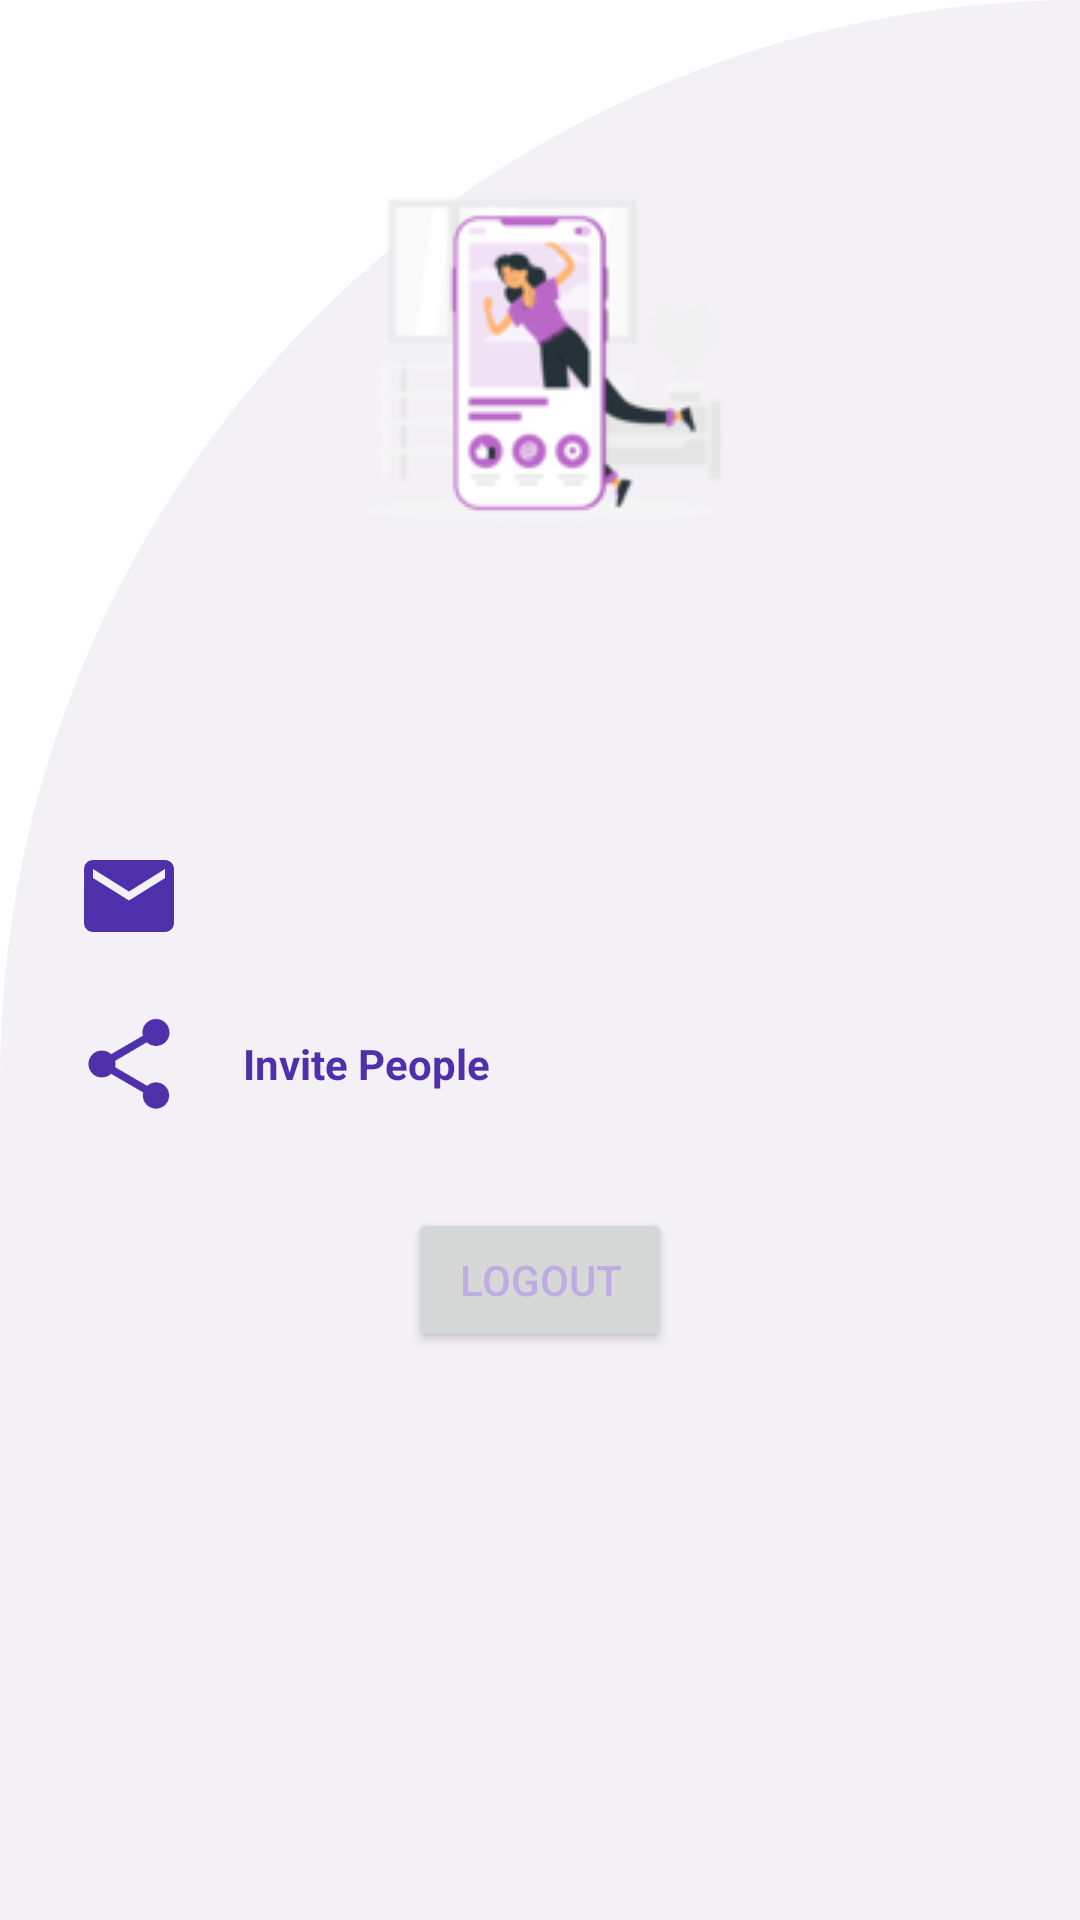

Icon click points for this 1080w x 1920h phone screenshot, format [x,y]:
email: [129,896]
share: [129,1064]
